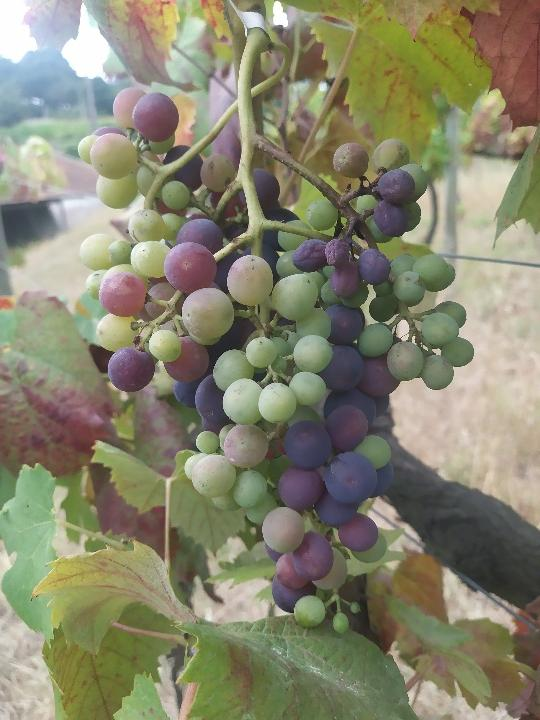grape: (76, 83, 477, 636)
